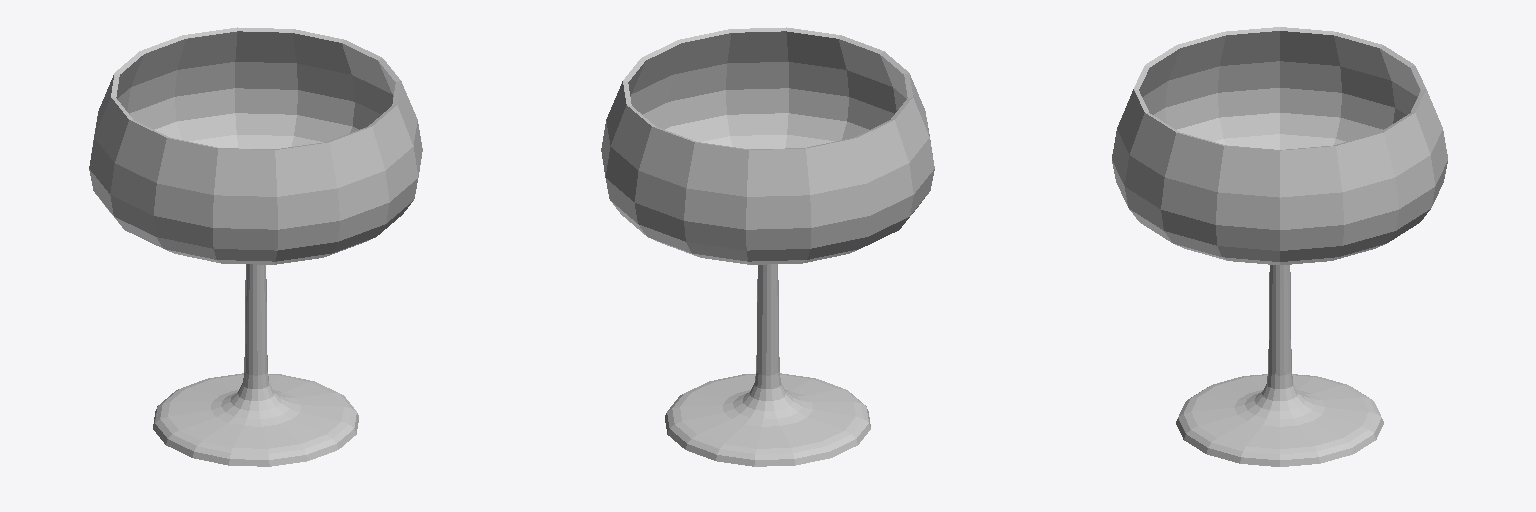
File: chalice1.obj
3 views of the same model, side by side, from view 1: azimuth 30°, elevation 25°; view 2: azimuth 150°, elevation 25°; view 3: azimuth 270°, elevation 25° (orthographic).
Visible parts, largest first — view 1: BezierCurve_CUBezierCurve.002; view 2: BezierCurve_CUBezierCurve.002; view 3: BezierCurve_CUBezierCurve.002.
Part boxes in pixels (bbox=[...]): BezierCurve_CUBezierCurve.002: bbox=[89, 27, 422, 466]; BezierCurve_CUBezierCurve.002: bbox=[601, 27, 934, 466]; BezierCurve_CUBezierCurve.002: bbox=[1112, 27, 1447, 466].
Bounding box in the file's own units: 2.25 × 2.47 × 2.25.